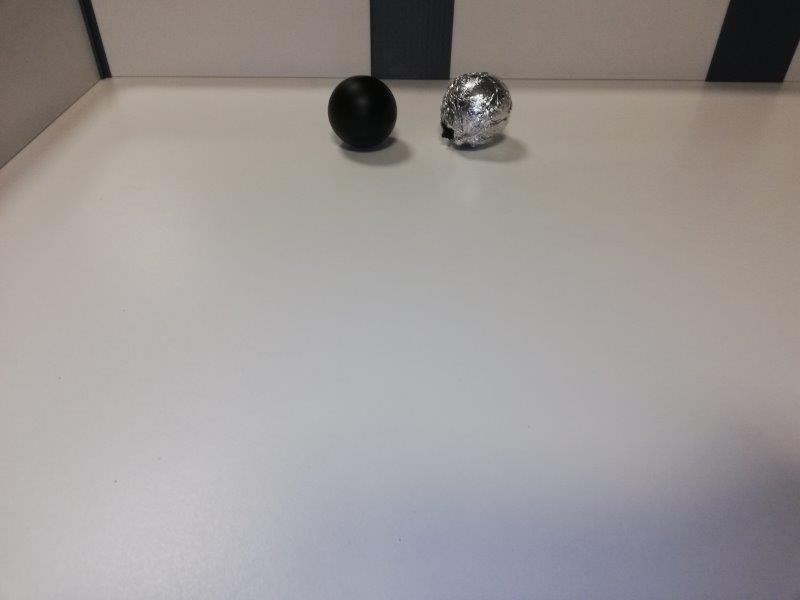bianca: (440, 71, 512, 150)
nera: (329, 75, 396, 147)
